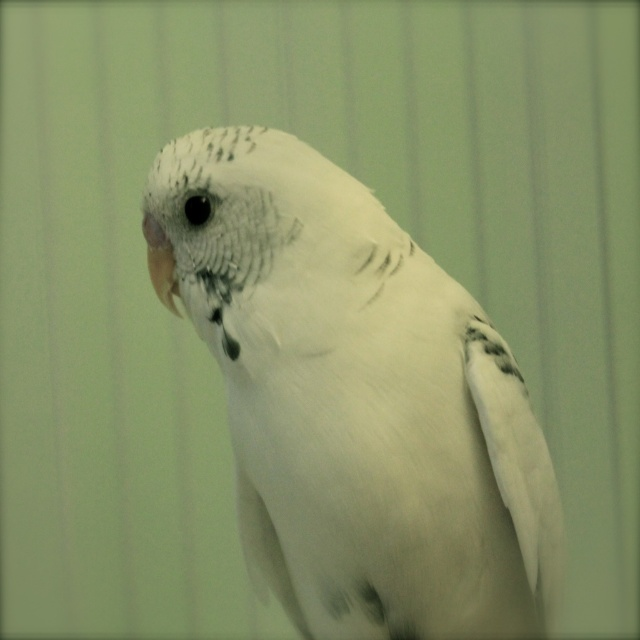Parrot: (140, 125, 565, 639)
